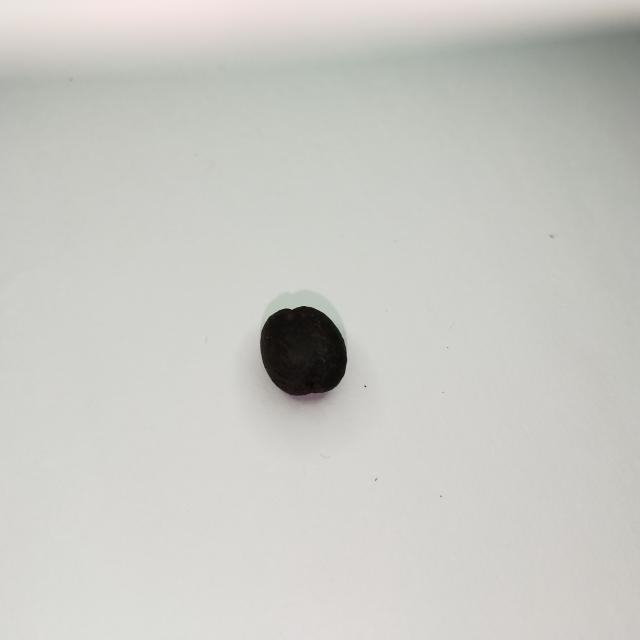Danado: (260, 307, 348, 401)
